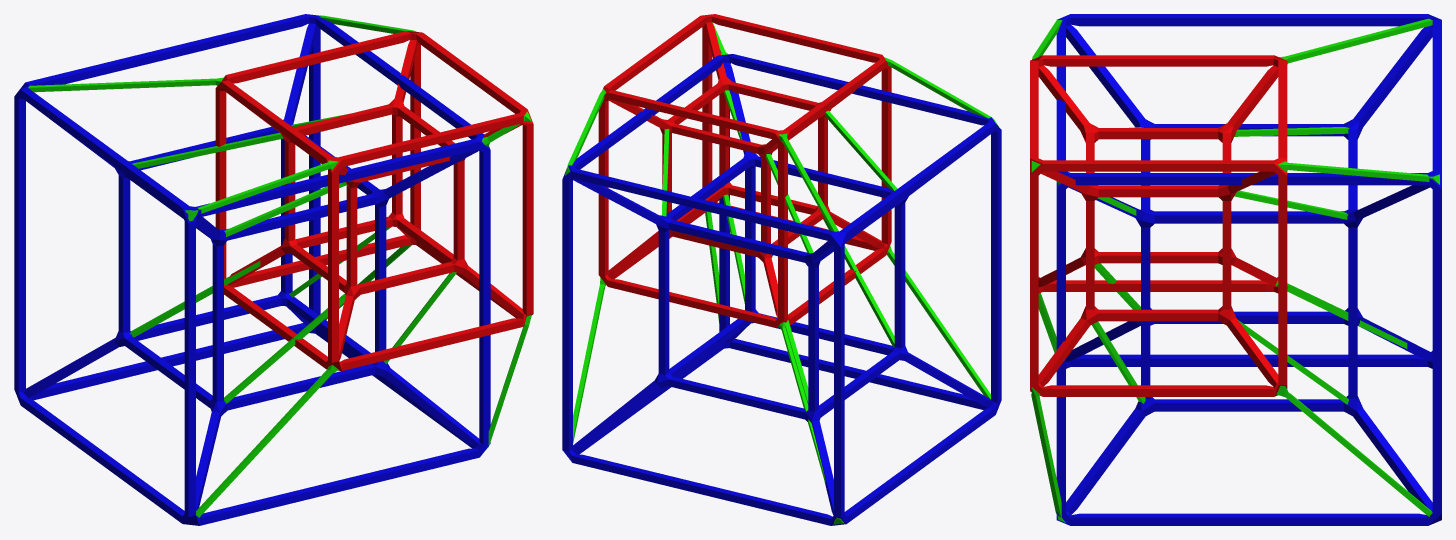
File: petracube.fbx
The picture shows the model from 3 angles, left to right: view 1: azimuth 30°, elevation 25°; view 2: azimuth 150°, elevation 25°; view 3: azimuth 270°, elevation 25°; orthographic projection. The views are drawn at different scales.
Parts seen in each view (by area): view 1: Cube; view 2: Cube; view 3: Cube.
Part boxes in pixels (x1,y1,x2,y2): Cube: (14,14,533,525); Cube: (562,14,1001,525); Cube: (1030,14,1441,525).
Size of the model in its own units: 226 by 222 by 219.
